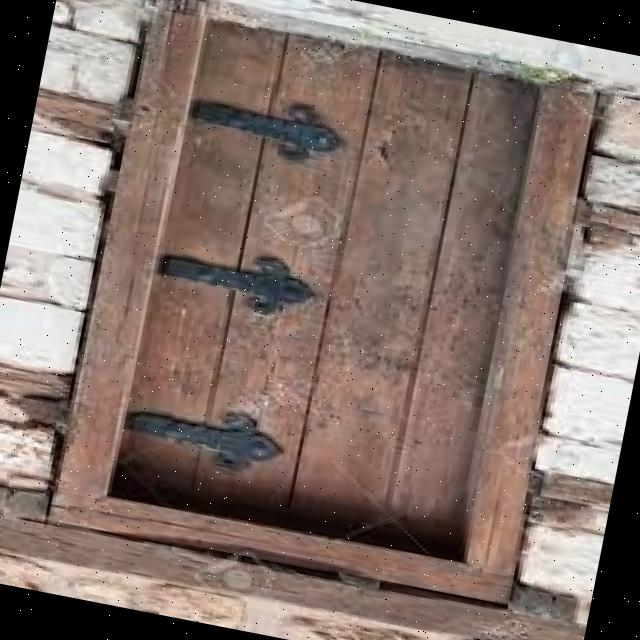Door: (79, 3, 616, 614)
